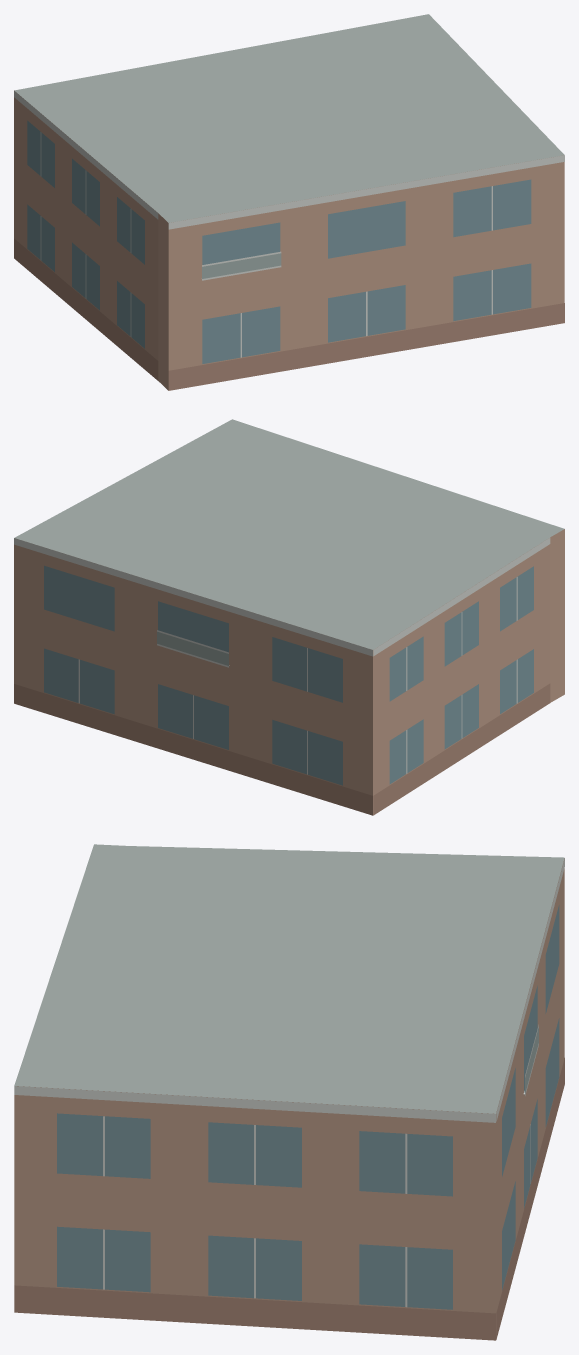
The model's file is survey-upis-32597991.glb.
3 views of the same model, one above another, from view 1: azimuth 30°, elevation 25°; view 2: azimuth 150°, elevation 25°; view 3: azimuth 270°, elevation 25° (orthographic). The views are drawn at different scales.
Visible parts, largest first — view 1: survey-upis-32597991.tmp; view 2: survey-upis-32597991.tmp; view 3: survey-upis-32597991.tmp.
Part boxes in pixels (x1,y1,x2,y2): survey-upis-32597991.tmp: (14,14,564,390); survey-upis-32597991.tmp: (14,419,564,815); survey-upis-32597991.tmp: (14,844,564,1340).
Size of the model in its own units: 15.57 by 6.1 by 13.44.
